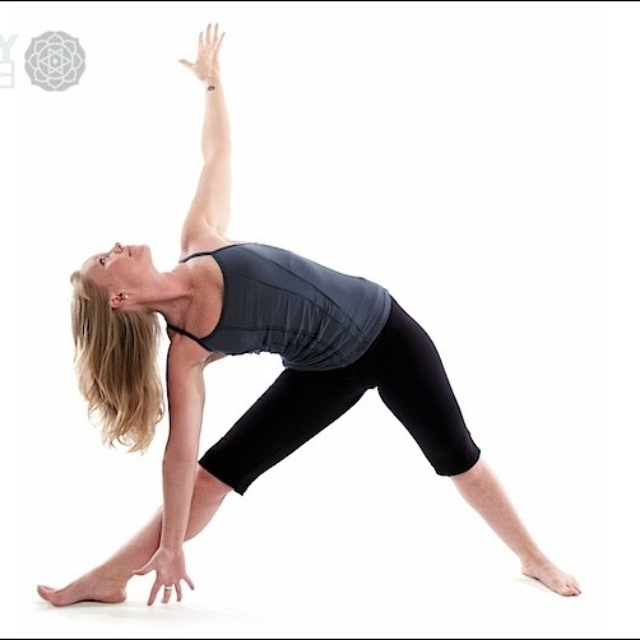Triangle_Pose: (22, 13, 593, 618)
